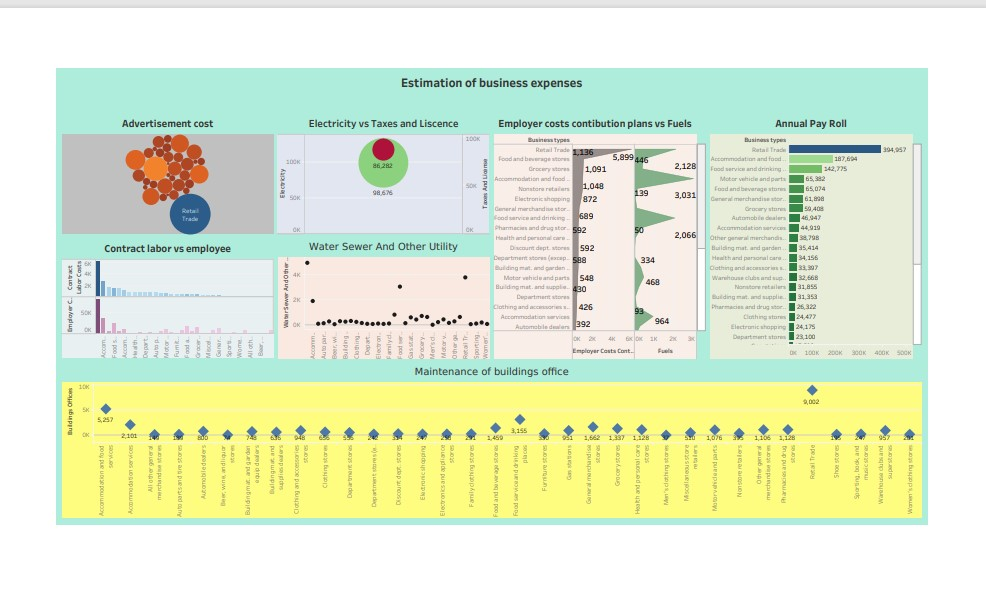

Layout of this report page (visuals, bound fields, positions):
{"tool":"tableau","page":{"name":"Dashboard 2","canvas":[1769,927],"ordinal":1},"visuals":[{"type":"title","box":[8,8,1753,49]},{"type":"worksheet","title":"Advertisement cost","mark":"Circle","box":[8,88,438,253.9]},{"type":"worksheet","title":"Electricity vs Taxes and Liscence","mark":"Pie","rows":["electricity","taxes_and_license"],"box":[445.9,88,438.2,253.9]},{"type":"worksheet","title":"Employer costs contribution plans vs Fuels","mark":"Area","rows":["Business_types"],"cols":["employer_costs_contribution_plans","fuels"],"box":[884.2,88,438.4,508]},{"type":"worksheet","title":"Annual Pay Roll","mark":"Automatic","rows":["Business_types"],"cols":["annual_payroll"],"box":[1322.5,88,438.5,508]},{"type":"worksheet","title":"Contract labor vs employee","mark":"Automatic","rows":["contract_labor_costs","employer_cost"],"cols":["Business_types"],"box":[8,342,438.1,254]},{"type":"worksheet","title":"Water Sewer And Other Utility","mark":"Circle","rows":["water_sewer_and_other_utility"],"cols":["Business_types"],"box":[446.1,342,438.1,254]},{"type":"worksheet","title":"Maintenance of building","mark":"Shape","rows":["maintenance_of_buildings_offices"],"cols":["Business_types"],"box":[8,596,1753,323]}]}

Visuals, with their boxes on the page's 1769x927 design canvas (x1, y1, x2, y2). These are canvas units, not pixel positions in the 986x600 screenshot, which may show the page scaled, cropped or inside an application window:
title: bbox=(8, 8, 1761, 57)
"Advertisement cost" worksheet (Circle marks): bbox=(8, 88, 446, 342)
"Electricity vs Taxes and Liscence" worksheet (Pie marks): bbox=(446, 88, 884, 342)
"Employer costs contribution plans vs Fuels" worksheet (Area marks): bbox=(884, 88, 1323, 596)
"Annual Pay Roll" worksheet: bbox=(1322, 88, 1761, 596)
"Contract labor vs employee" worksheet: bbox=(8, 342, 446, 596)
"Water Sewer And Other Utility" worksheet (Circle marks): bbox=(446, 342, 884, 596)
"Maintenance of building" worksheet (Shape marks): bbox=(8, 596, 1761, 919)
